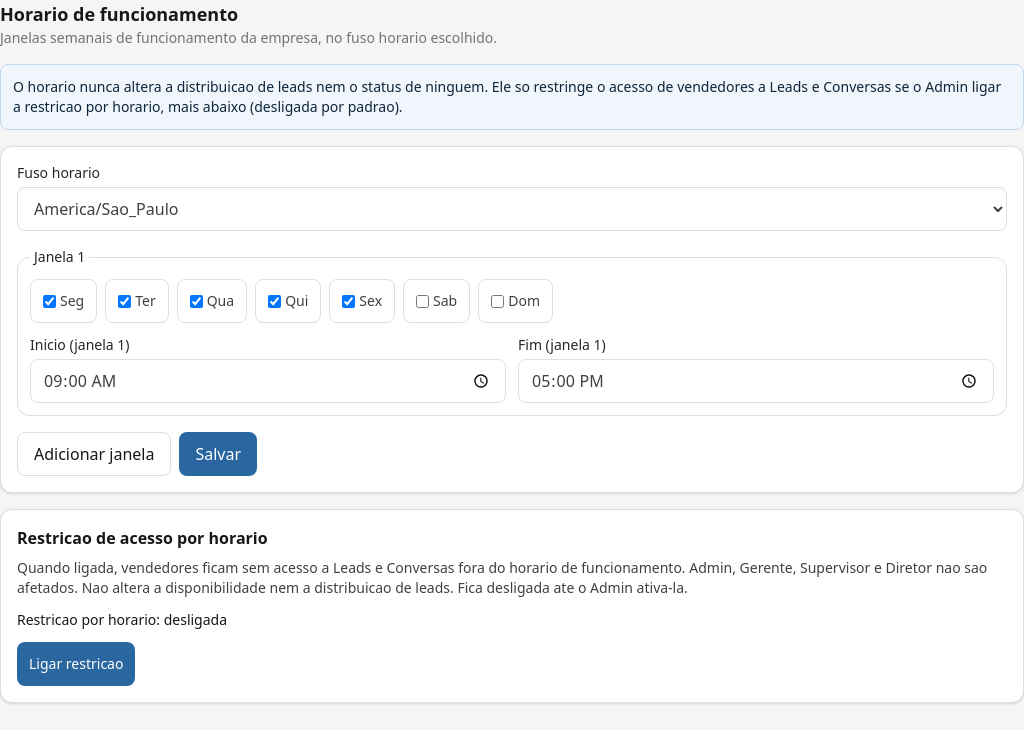
BusinessHoursPage › adiciona e remove janelas
Click the button "Adicionar janela" at (94, 454), box [17,432,171,476]
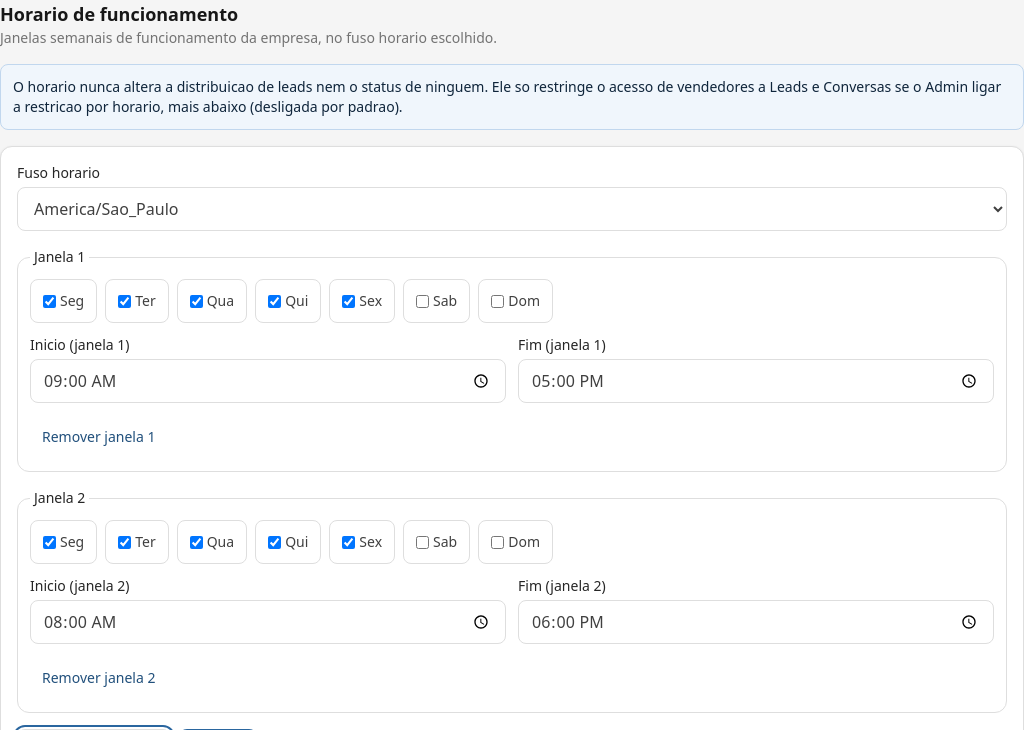
Expected: the time field labelled "Inicio (janela 2)" is shown, [30,600,506,644]
Click the button "Remover janela 2" at (99, 678), box [30,656,168,700]
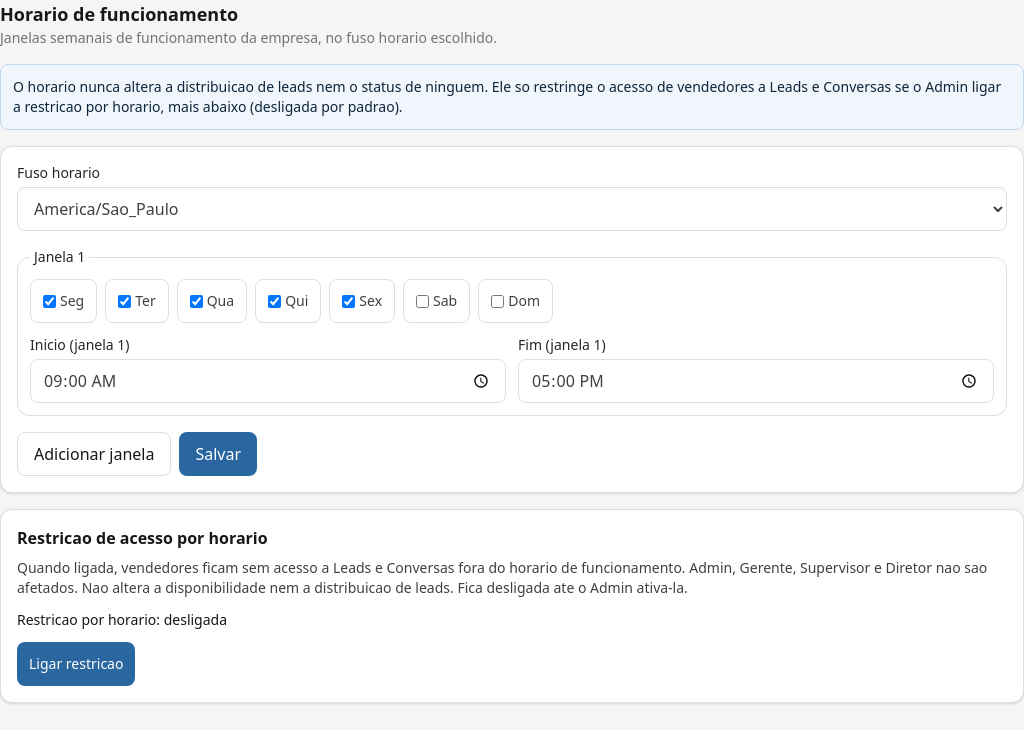
Expected: the label labelled "Inicio (janela 2)" is gone
Expected: the button "Remover janela" is gone
